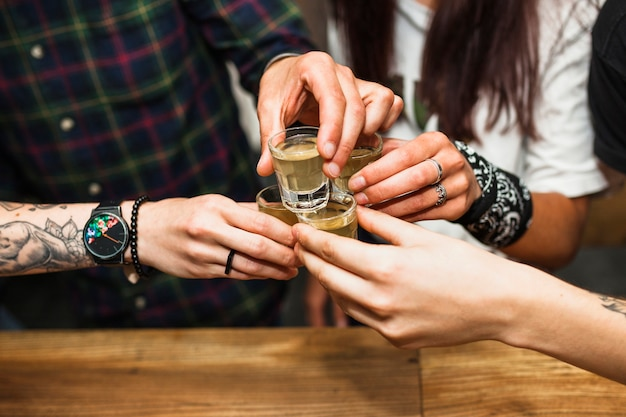alcohol: (263, 127, 338, 211), (249, 185, 312, 248), (321, 133, 381, 197), (298, 198, 359, 249)
